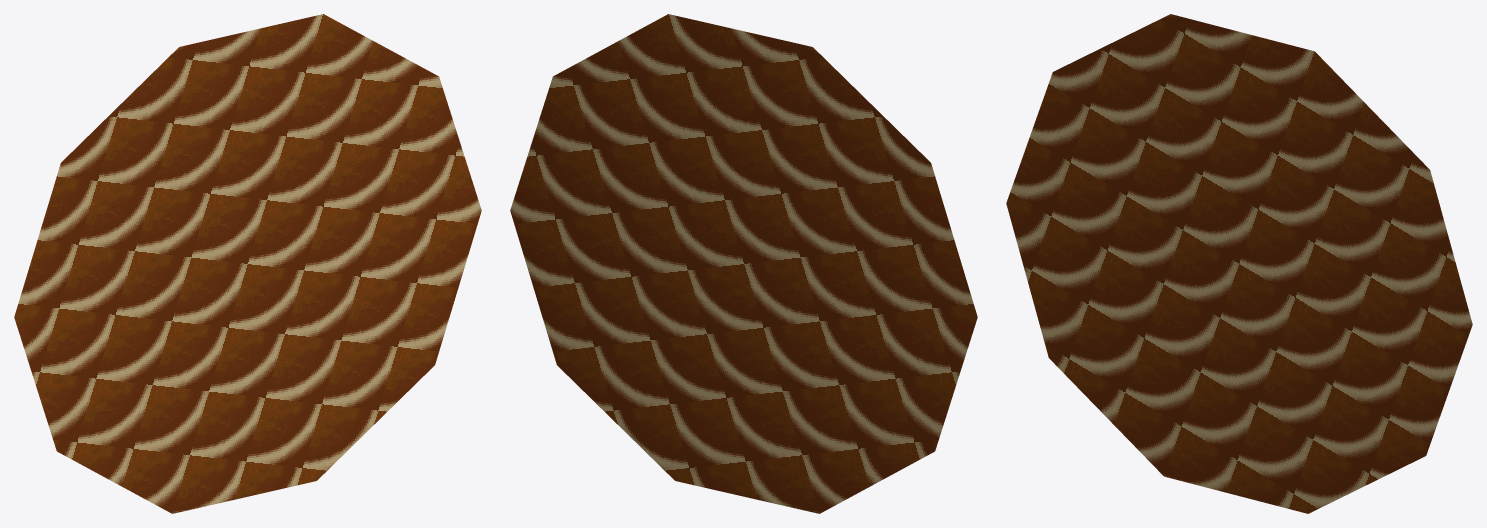
3 views of the same model, side by side, from view 1: azimuth 30°, elevation 25°; view 2: azimuth 150°, elevation 25°; view 3: azimuth 330°, elevation 25° (orthographic).
Visible parts, largest first — view 1: ef_621; view 2: ef_621; view 3: ef_621.
Boxes of the visible parts, box(x1,y1,x2,y2) form: ef_621: box(14, 14, 481, 513); ef_621: box(510, 14, 977, 513); ef_621: box(1006, 14, 1472, 513).
Size of the model in its own units: 0.8188 by 0.7823 by 0.
Materials: 1 (1 with a texture image).
